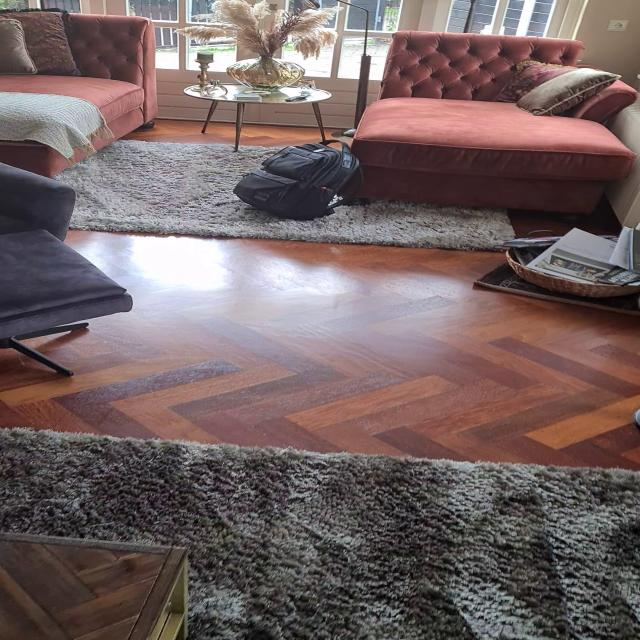backpack: (227, 138, 368, 222)
